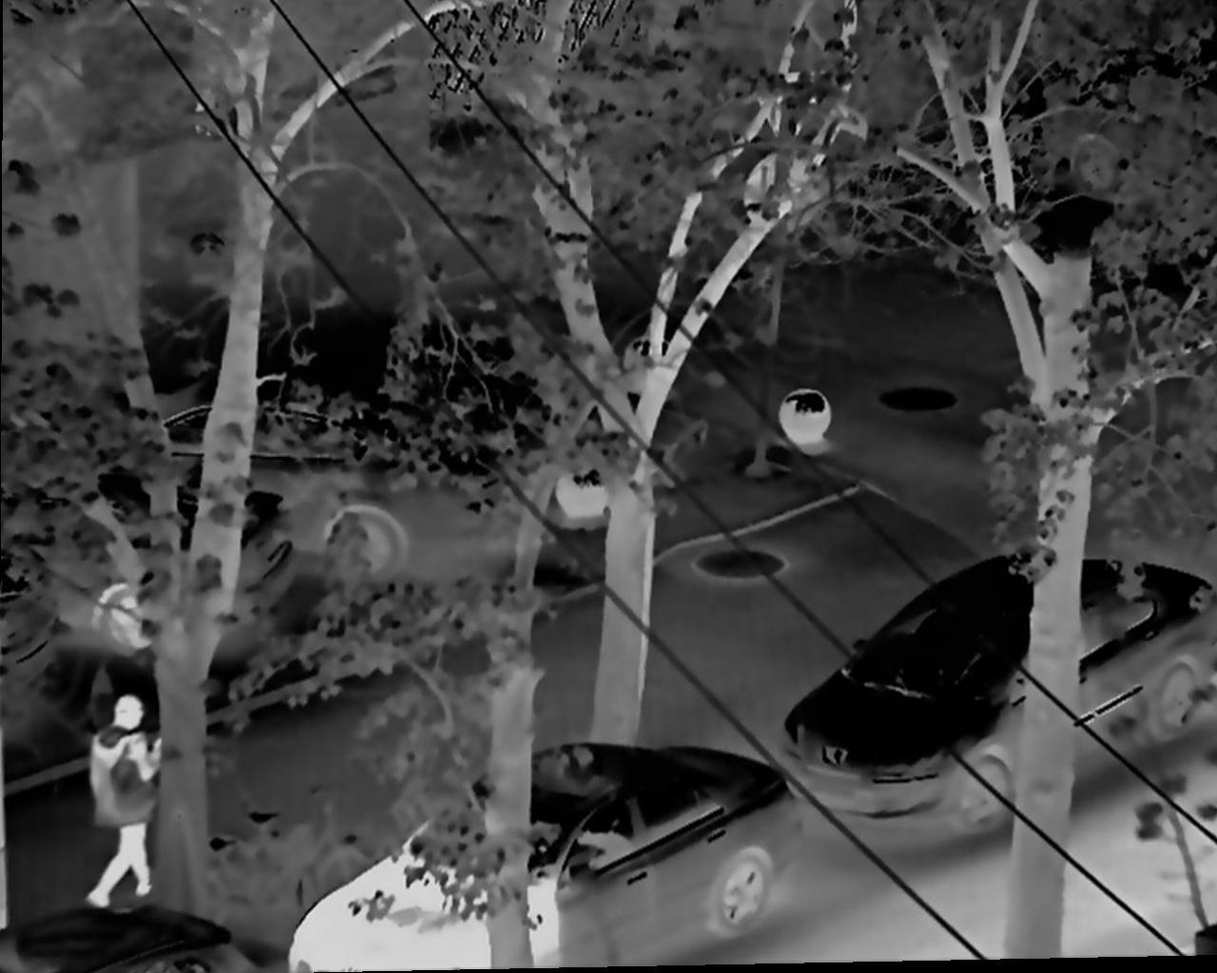person: (86, 696, 170, 908)
